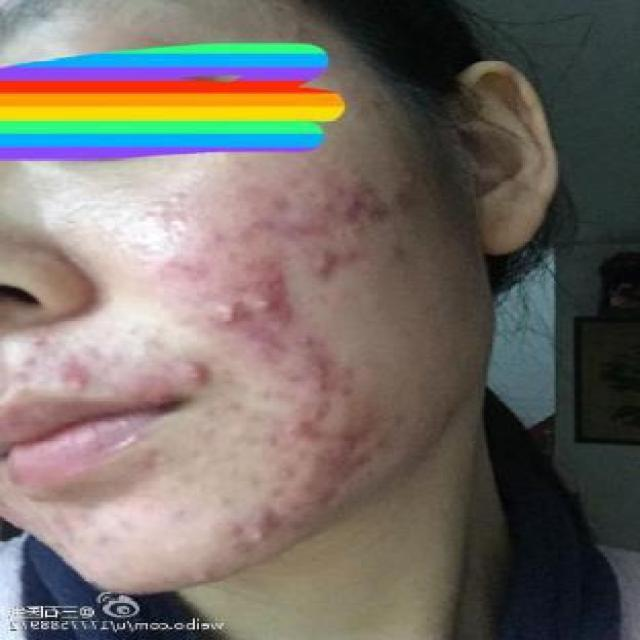papules: (162, 351, 230, 391), (299, 245, 351, 280)
pustules: (203, 294, 250, 337), (234, 516, 281, 556), (246, 281, 285, 317)
